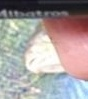Abramis brama: (20, 20, 68, 79)
